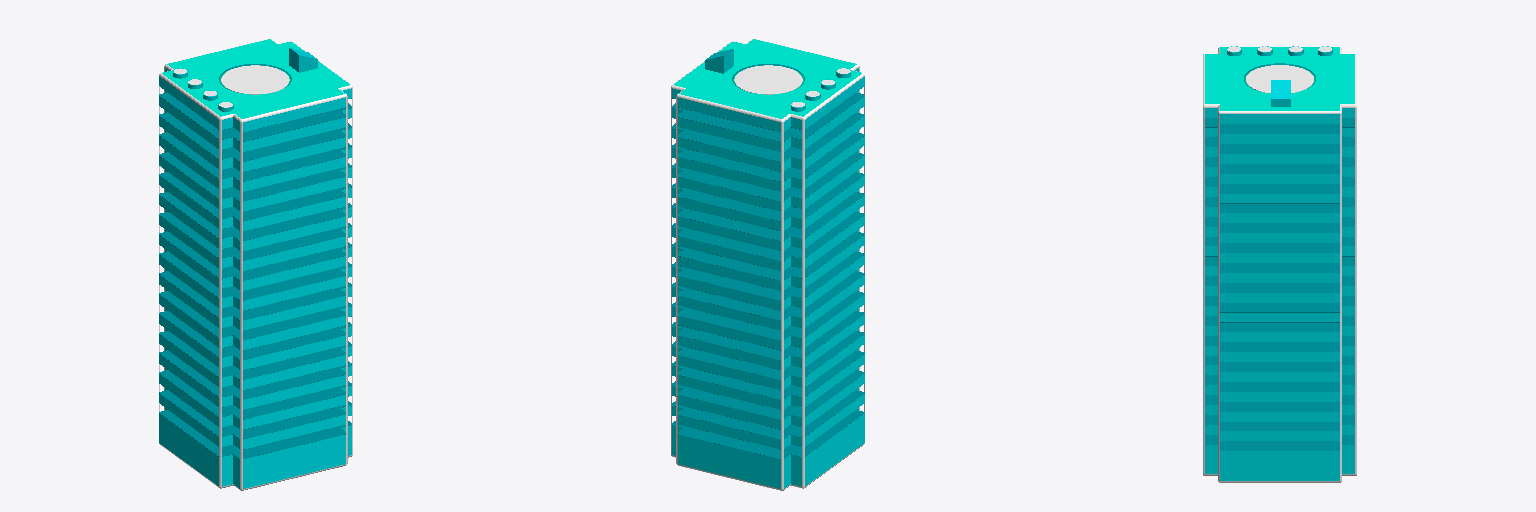
Rendered from 小楼层-下.obj.
3 views of the same model, side by side, from view 1: azimuth 30°, elevation 25°; view 2: azimuth 150°, elevation 25°; view 3: azimuth 270°, elevation 25° (orthographic).
Visible parts, largest first — view 1: 连接, 圆柱, 封顶_2.1_26, 封顶_2.1_4, 封顶_2.1_16, 封顶_2.1_14, 封顶_2.1_6, 封顶_2.1_12, 封顶_2.1_30, 封顶_2.1_1, 封顶_2_32, 封顶_2_34 (+25 smaller); view 2: 连接, 圆柱, 封顶_2.1_26, 封顶_2.1_8, 封顶_2.1_10, 封顶_2.1_16, 封顶_2.1_4, 封顶_2.1_6, 封顶_2.1_18, 封顶_2.1_28, 封顶_2.1_14, 封顶_2.1_22 (+25 smaller); view 3: 连接, 圆柱, 封顶_2_10, 封顶_2_16, 封顶_2_12, 封顶_2_18, 封顶_2_1, 封顶_2_28, 封顶_2_34, 封顶_2_4, 封顶_2_8, 封顶_2_6 (+17 smaller).
Boxes of the visible parts, box(x1,y1,x2,y2) form: 连接: box(159, 39, 352, 490); 圆柱: box(221, 65, 289, 94); 封顶_2.1_26: box(224, 289, 345, 320); 封顶_2.1_4: box(224, 169, 345, 201); 封顶_2.1_16: box(224, 347, 345, 379); 封顶_2.1_14: box(224, 407, 345, 439); 封顶_2.1_6: box(226, 129, 345, 161); 封顶_2.1_12: box(225, 387, 345, 419); 封顶_2.1_30: box(225, 248, 345, 280); 封顶_2.1_1: box(226, 109, 345, 141); 封顶_2_32: box(159, 172, 351, 218); 封顶_2_34: box(159, 192, 351, 238); 连接: box(671, 39, 864, 490); 圆柱: box(734, 65, 802, 94); 封顶_2.1_26: box(678, 288, 799, 320); 封顶_2.1_8: box(678, 149, 799, 181); 封顶_2.1_10: box(678, 428, 799, 458); 封顶_2.1_16: box(678, 349, 799, 379); 封顶_2.1_4: box(678, 169, 798, 201); 封顶_2.1_6: box(678, 129, 799, 161); 封顶_2.1_18: box(678, 367, 797, 399); 封顶_2.1_28: box(678, 228, 799, 260); 封顶_2.1_14: box(678, 407, 799, 439); 封顶_2.1_22: box(678, 328, 799, 359); 连接: box(1203, 47, 1356, 482); 圆柱: box(1246, 65, 1313, 93); 封顶_2_10: box(1220, 441, 1339, 450); 封顶_2_16: box(1220, 362, 1339, 371); 封顶_2_12: box(1220, 402, 1339, 411); 封顶_2_18: box(1220, 382, 1339, 391); 封顶_2_1: box(1220, 124, 1339, 133); 封顶_2_28: box(1220, 243, 1339, 252); 封顶_2_34: box(1220, 223, 1339, 232); 封顶_2_4: box(1220, 184, 1339, 193); 封顶_2_8: box(1220, 164, 1339, 173); 封顶_2_6: box(1220, 144, 1339, 153).
Size of the model in its own units: 17 by 47.16 by 17.